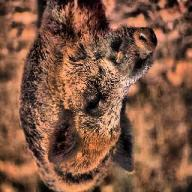boar: (18, 1, 158, 192)
